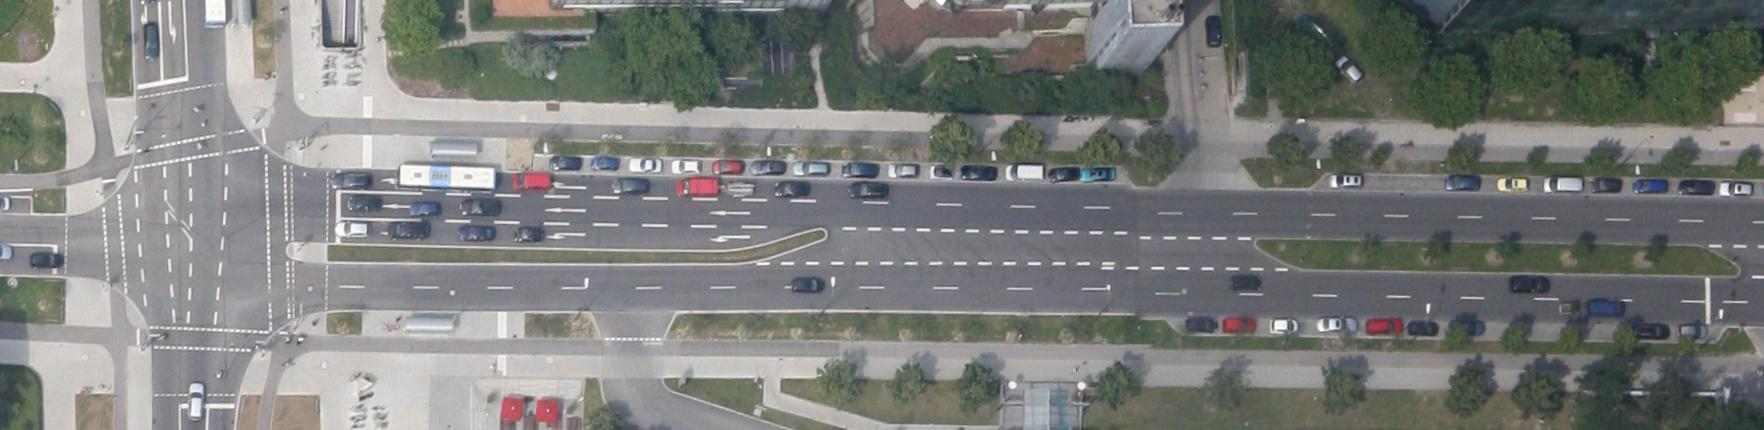car: (1333, 53, 1366, 86), (677, 177, 718, 197), (459, 198, 502, 216), (512, 172, 551, 191), (390, 220, 429, 239), (1587, 298, 1624, 317), (331, 171, 367, 190), (1509, 276, 1549, 293), (187, 382, 204, 421), (848, 182, 888, 199), (1543, 176, 1583, 192), (1006, 164, 1043, 181), (774, 180, 810, 197), (841, 161, 877, 178), (1316, 319, 1357, 333), (334, 221, 369, 238), (1444, 173, 1479, 190), (458, 225, 495, 241), (1366, 319, 1403, 334), (29, 252, 63, 269), (346, 195, 380, 212), (1205, 14, 1222, 47), (612, 178, 648, 194), (1638, 322, 1669, 340), (1677, 179, 1713, 195), (791, 277, 823, 294), (1719, 180, 1752, 197), (1449, 320, 1484, 335), (962, 164, 996, 180), (1223, 316, 1255, 332), (1329, 172, 1361, 188), (1230, 274, 1260, 290), (144, 25, 159, 60), (513, 226, 544, 242), (1186, 315, 1217, 331), (1632, 179, 1666, 194), (793, 161, 827, 176), (727, 179, 754, 197), (751, 160, 784, 174), (629, 158, 661, 172), (1269, 316, 1297, 333), (1408, 320, 1438, 335), (1591, 177, 1620, 192), (670, 159, 700, 174), (549, 155, 580, 170), (1677, 324, 1707, 339), (1497, 177, 1527, 191), (1050, 167, 1079, 181), (411, 201, 439, 216), (889, 162, 917, 177), (712, 160, 740, 174), (1082, 168, 1115, 180), (591, 156, 618, 170), (929, 164, 952, 179), (1559, 301, 1579, 314)
